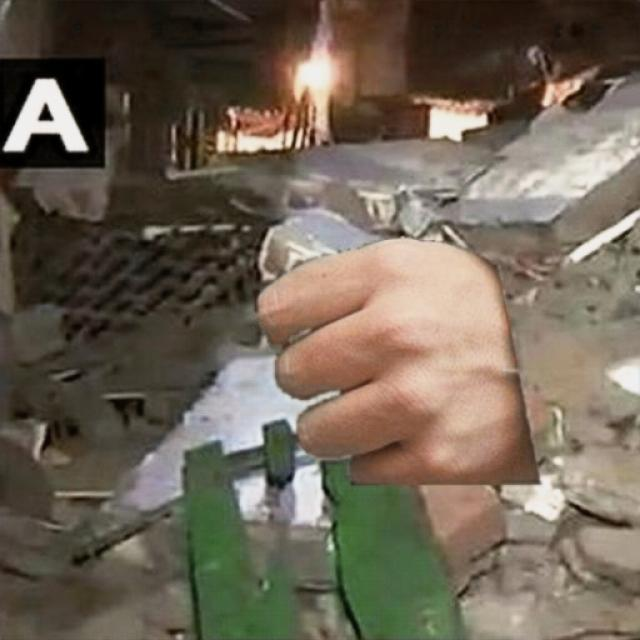Person in Rubble: (255, 236, 540, 484)
